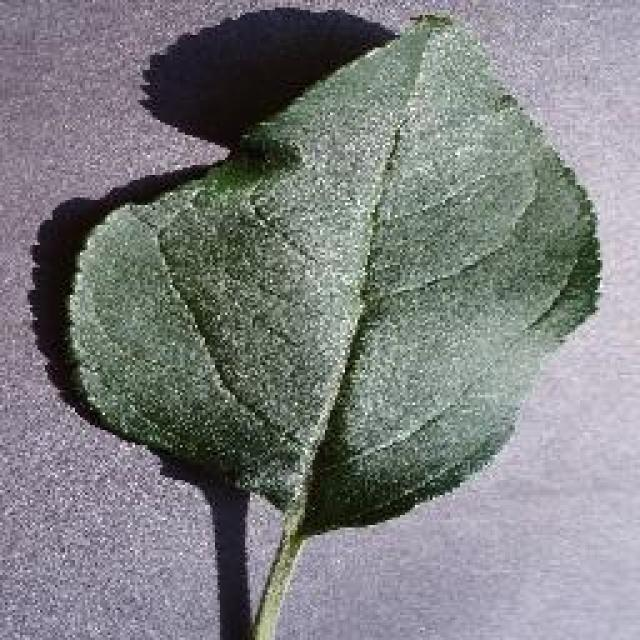apple healthy: (47, 5, 605, 637)
